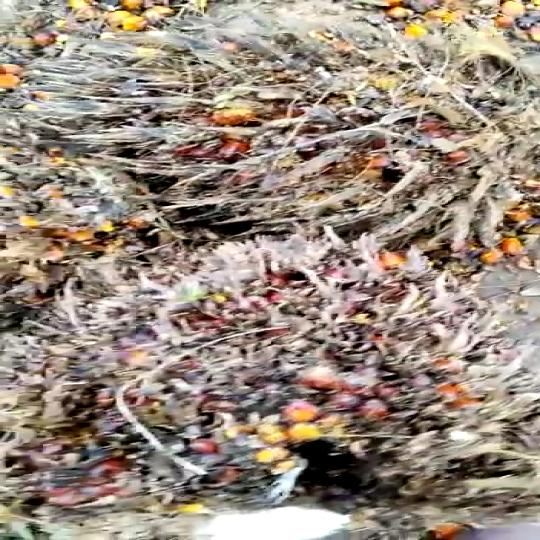terlalu masak: (41, 18, 517, 252), (77, 250, 534, 462)
